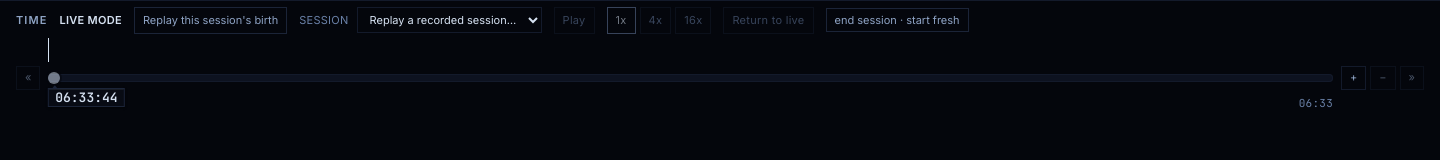
ReplayControls › loads a session and folds state up to the scrubber position
Step 1. Select "1970-01-01T00:00:01.000Z" in the dropdown labelled "session" → (449, 20), box x1=357 y1=7 x2=542 y2=33
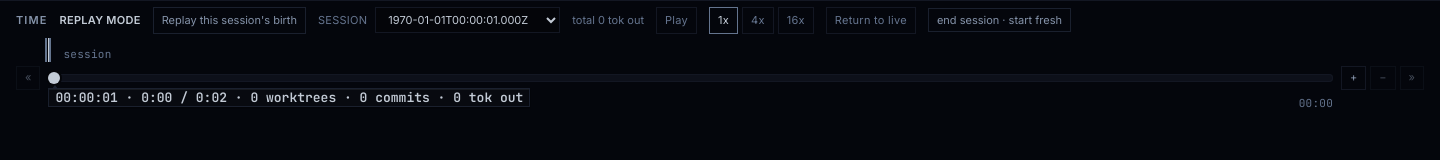
Result: the text "Replay mode" is shown at x1=60 y1=12 x2=141 y2=28
Step 2. Set the slider named "Replay scrubber" to "2000" → (691, 78), box x1=48 y1=72 x2=1333 y2=84
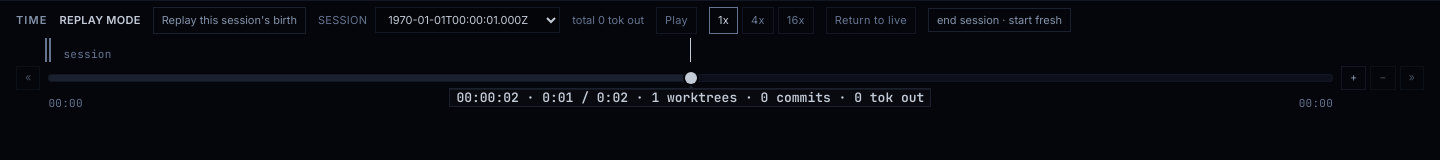
Result: the text with test id "scrubber-readout" reads "00:00:02 · 0:01 / 0:02 · 1 worktrees · 0 commits · 0 tok out" at x1=456 y1=88 x2=924 y2=106
Step 3. Set the slider named "Replay scrubber" to "3000" → (1325, 78), box x1=48 y1=72 x2=1333 y2=84
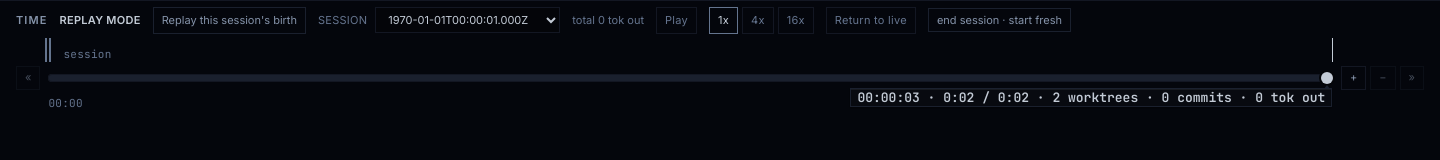
Result: the text with test id "scrubber-readout" reads "00:00:03 · 0:02 / 0:02 · 2 worktrees · 0 commits · 0 tok out" at x1=857 y1=88 x2=1325 y2=106
